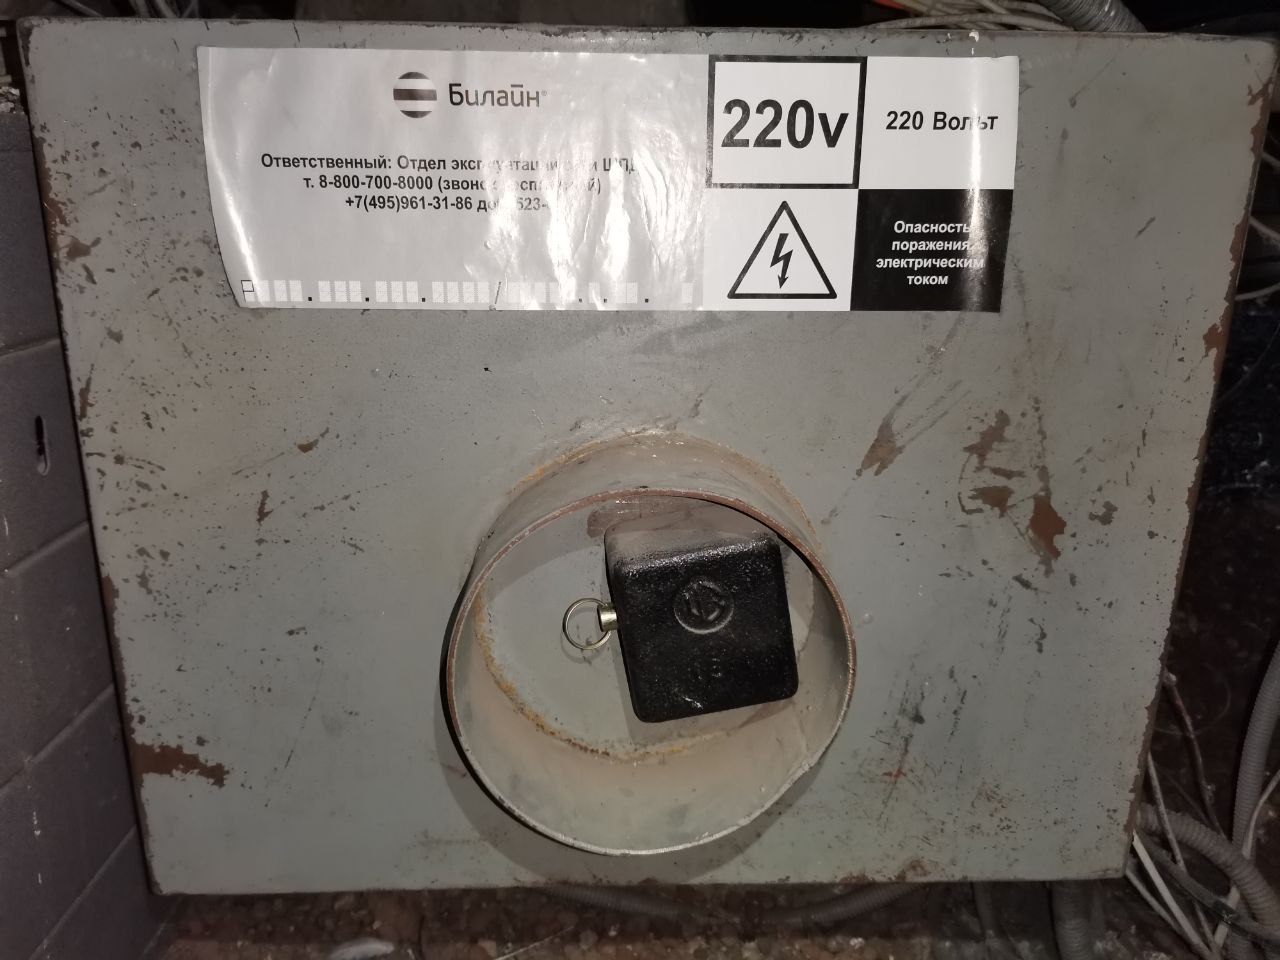shta-3: (12, 11, 1273, 898)
